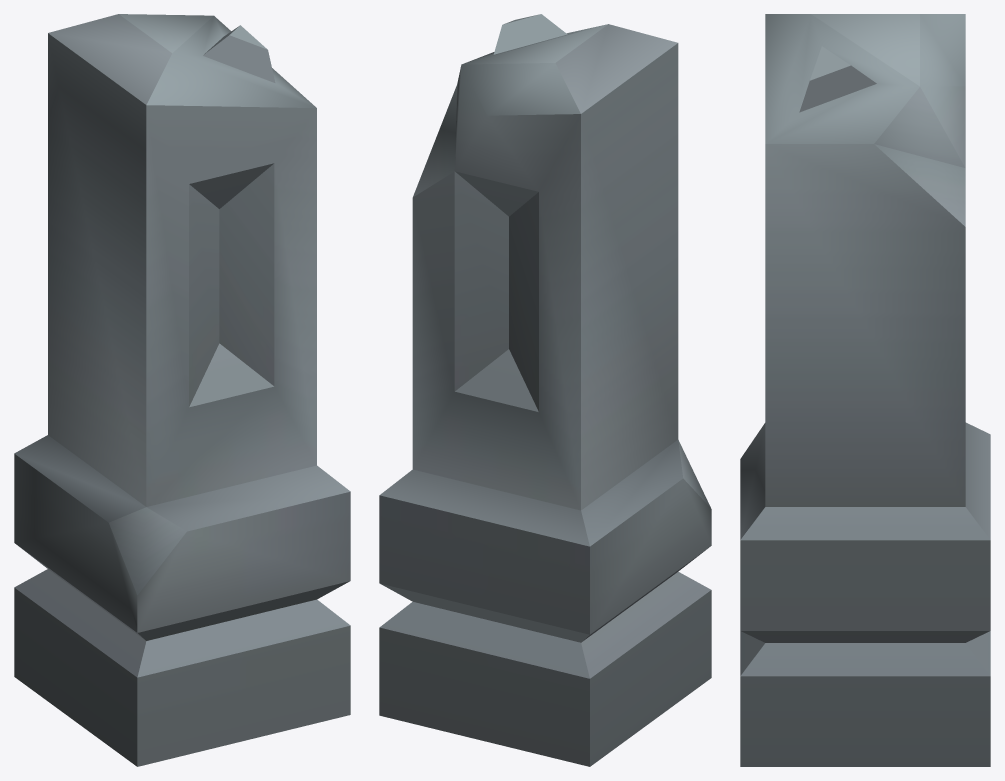
The model's file is fence-pillar-broken.glb.
The picture shows the model from 3 angles, left to right: view 1: azimuth 30°, elevation 25°; view 2: azimuth 150°, elevation 25°; view 3: azimuth 270°, elevation 25°; orthographic projection. The views are drawn at different scales.
Visible parts, largest first — view 1: fence_pillar_broken; view 2: fence_pillar_broken; view 3: fence_pillar_broken.
Boxes of the visible parts, bbox=[...] form: fence_pillar_broken: bbox=[14, 14, 350, 766]; fence_pillar_broken: bbox=[379, 14, 711, 766]; fence_pillar_broken: bbox=[740, 14, 990, 766].
Size of the model in its own units: 0.5 by 1.5 by 0.5.
Materials: 1 (1 with a texture image).
